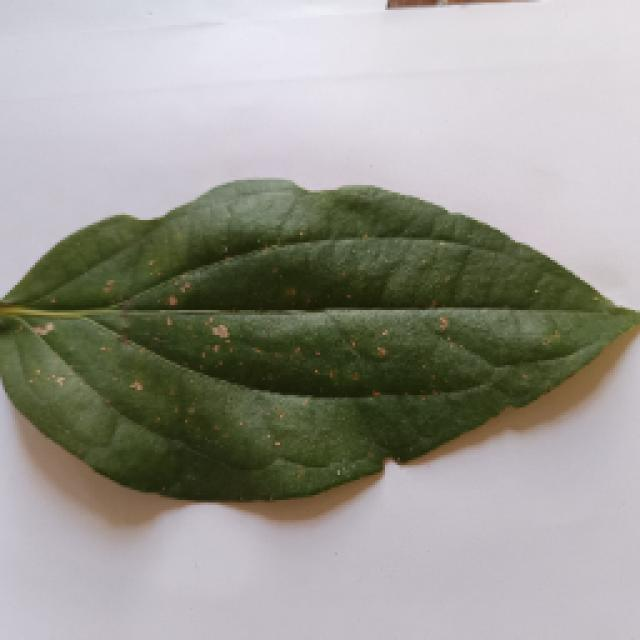pollu-disease: (3, 170, 635, 610)
